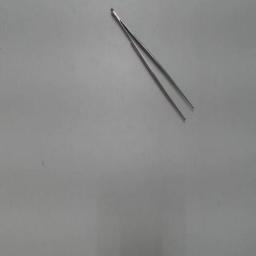Gillies Toothed Dissector: (106, 3, 200, 131)
